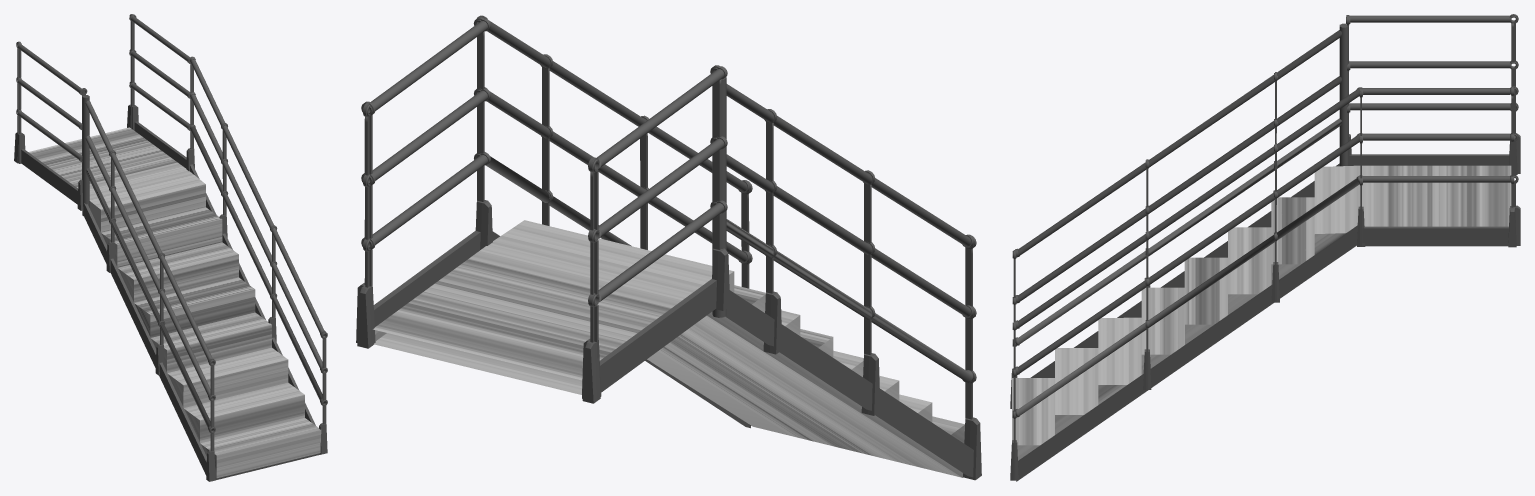
The model's file is Stairway_3.fbx.
3 renders of one model, left to right at view 1: azimuth 30°, elevation 25°; view 2: azimuth 150°, elevation 25°; view 3: azimuth 270°, elevation 25°, orthographic. The views are drawn at different scales.
Parts seen in each view (by area): view 1: Stairway_1_002.001; view 2: Stairway_1_002.001; view 3: Stairway_1_002.001.
Boxes of the visible parts, x1=… form: Stairway_1_002.001: x1=14, y1=14, x2=327, y2=481; Stairway_1_002.001: x1=356, y1=15, x2=981, y2=480; Stairway_1_002.001: x1=1010, y1=14, x2=1520, y2=481.
Bounding box in the file's own units: 2.33 × 5.54 × 6.49.
